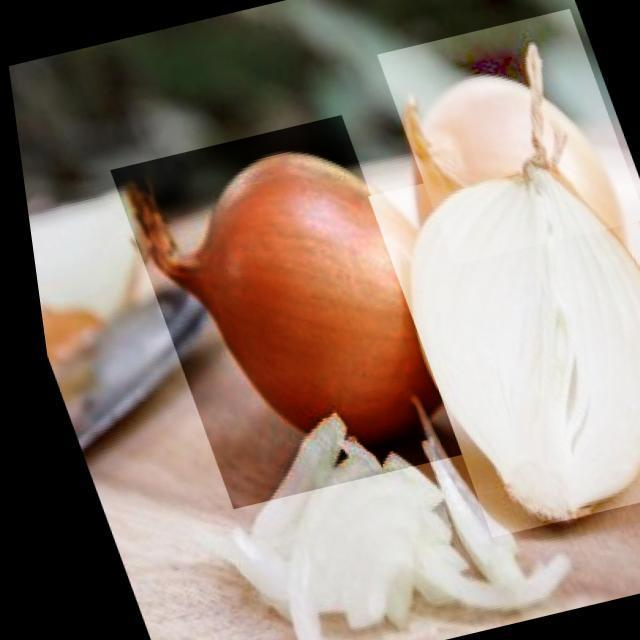Onion: (99, 114, 457, 508), (357, 139, 640, 537), (370, 8, 640, 264)
